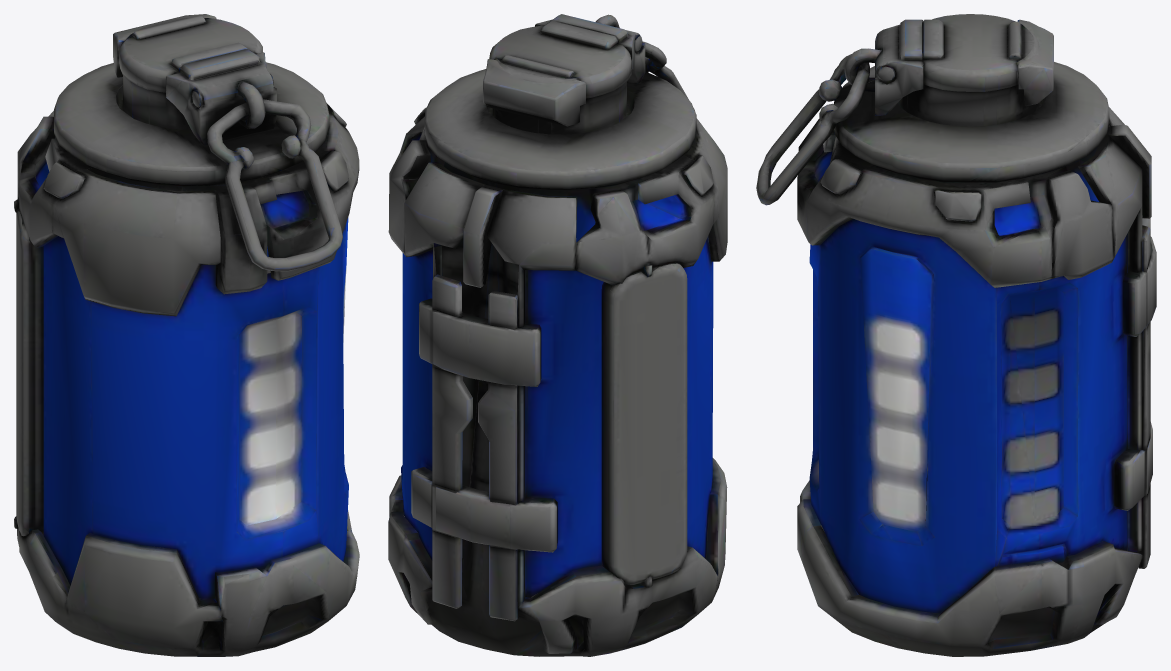
The model's file is weapon-grenade-smoke-v1.glb.
3 renders of one model, left to right at view 1: azimuth 30°, elevation 25°; view 2: azimuth 150°, elevation 25°; view 3: azimuth 270°, elevation 25°, orthographic.
Parts seen in each view (by area): view 1: weapon-grenade-smoke-v1; view 2: weapon-grenade-smoke-v1; view 3: weapon-grenade-smoke-v1.
Part boxes in pixels (bbox=[...]): weapon-grenade-smoke-v1: bbox=[14, 14, 359, 656]; weapon-grenade-smoke-v1: bbox=[388, 14, 727, 656]; weapon-grenade-smoke-v1: bbox=[756, 14, 1156, 656].
Bounding box in the file's own units: 0.0905 × 0.16 × 0.1036.
1 material, 1 textured.
